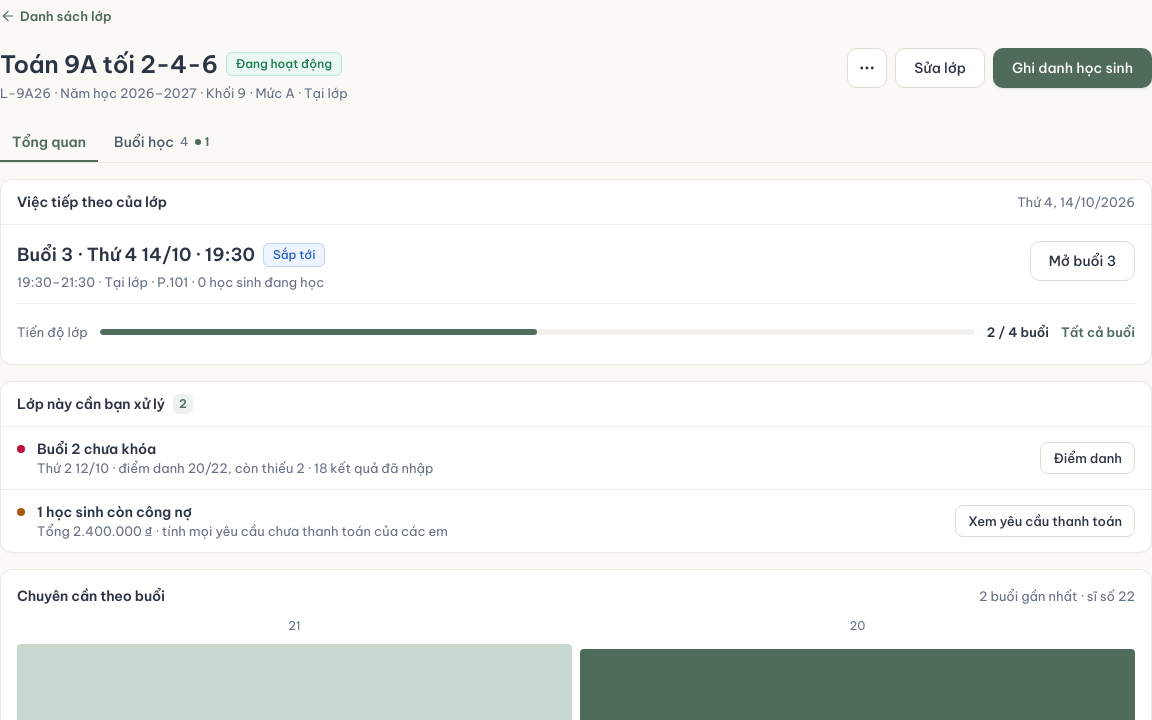
Test case: ClassDetailPage enroll dialog › sends the chosen student with this class and the student's registered mode
Click the button "Ghi danh học sinh": (1072, 68) [993,48,1151,88]
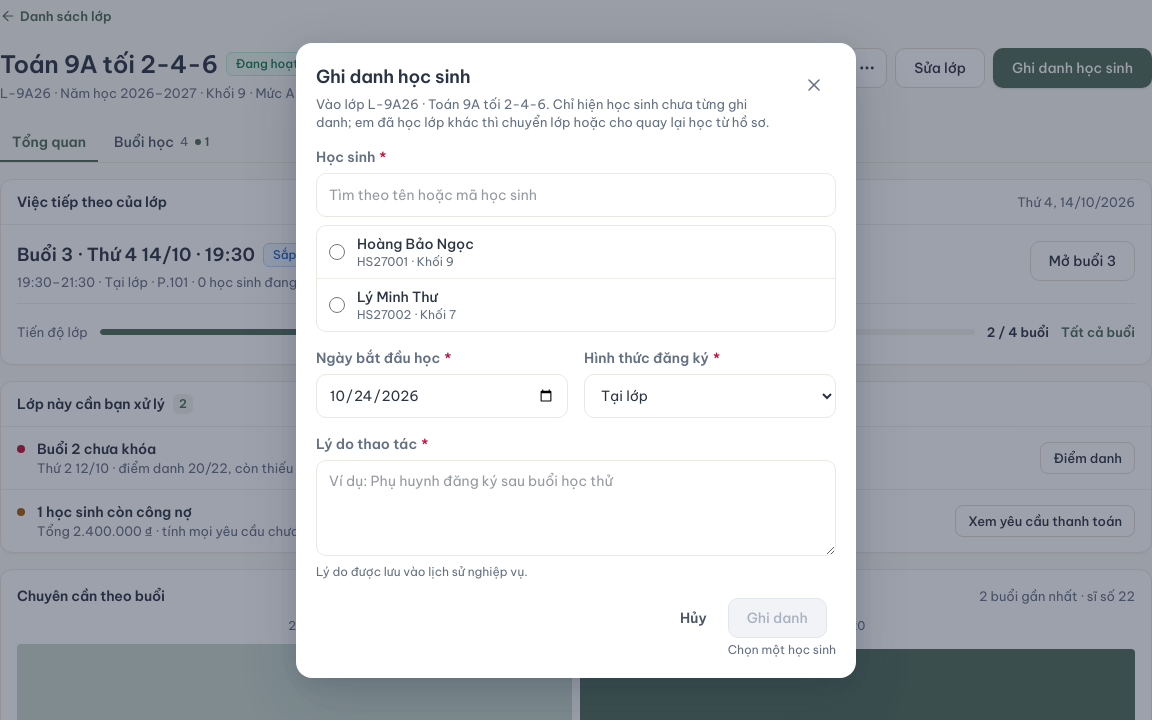
In the search field named "Tìm học sinh theo tên hoặc mã": (576, 194) [316,172,836,216], type "hoang bao"
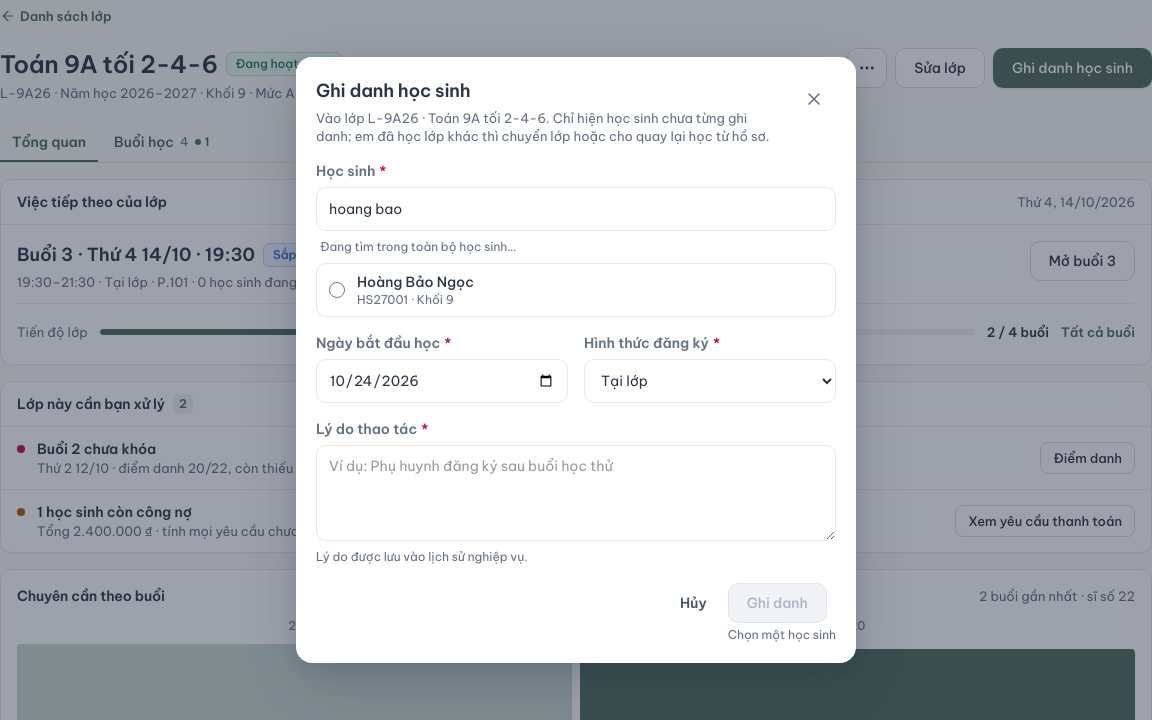
Expected: the text "Lý Minh Thư" is gone
Click the radio button labelled "Hoàng Bảo Ngọc HS27001 · Khối 9": (337, 290) [329,282,345,298]
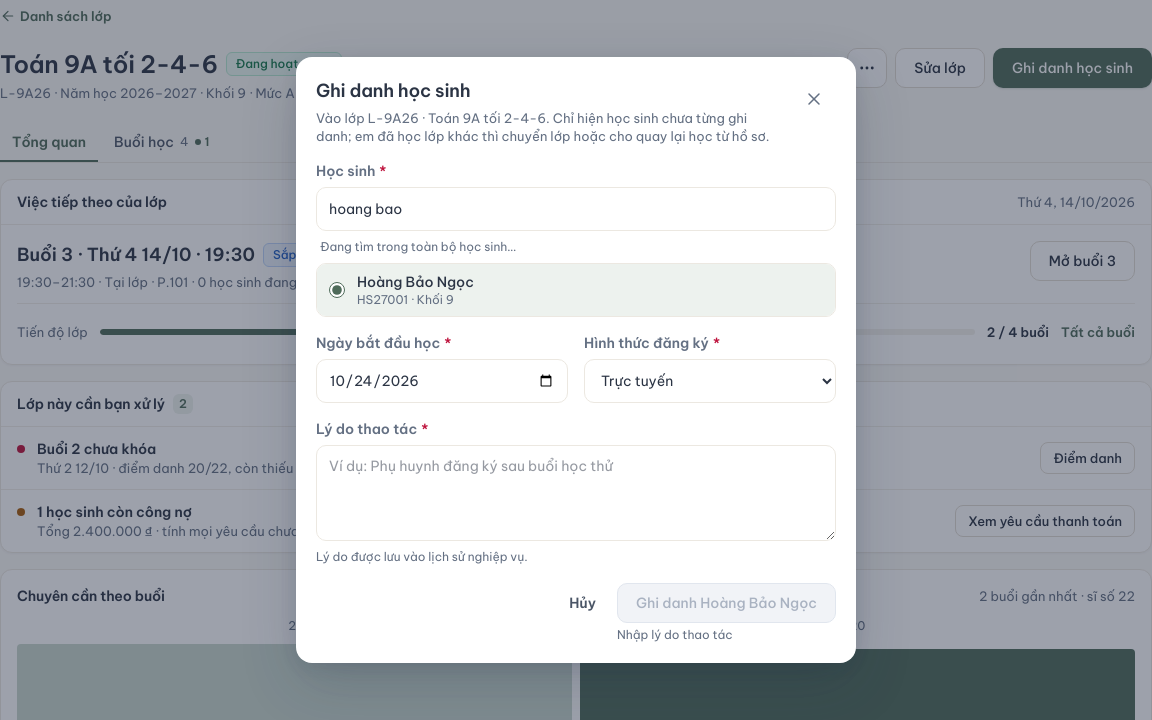
Expected: the dropdown labelled "Hình thức đăng ký*" shows "Trực tuyến", [584,359,836,403]
In the text box labelled "Lý do thao tác*": (576, 493) [316,445,836,541], type "Đăng ký sau học thử"
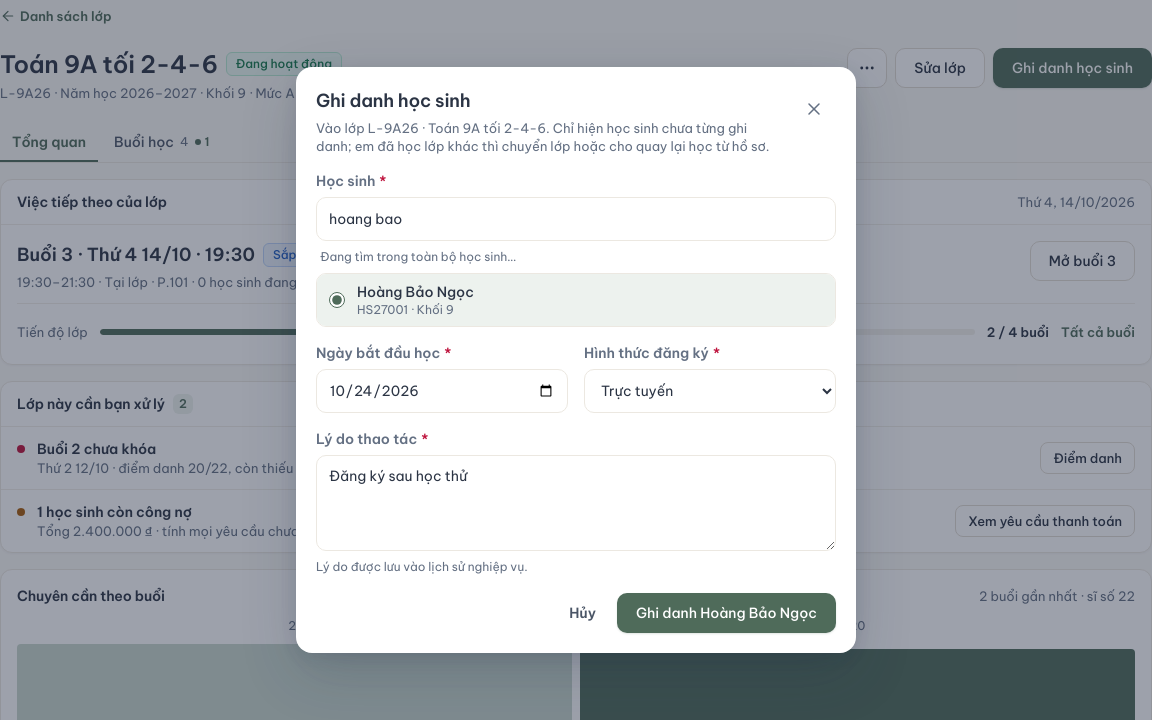
Click the button "Ghi danh Hoàng Bảo Ngọc": (726, 613) [617,593,836,633]
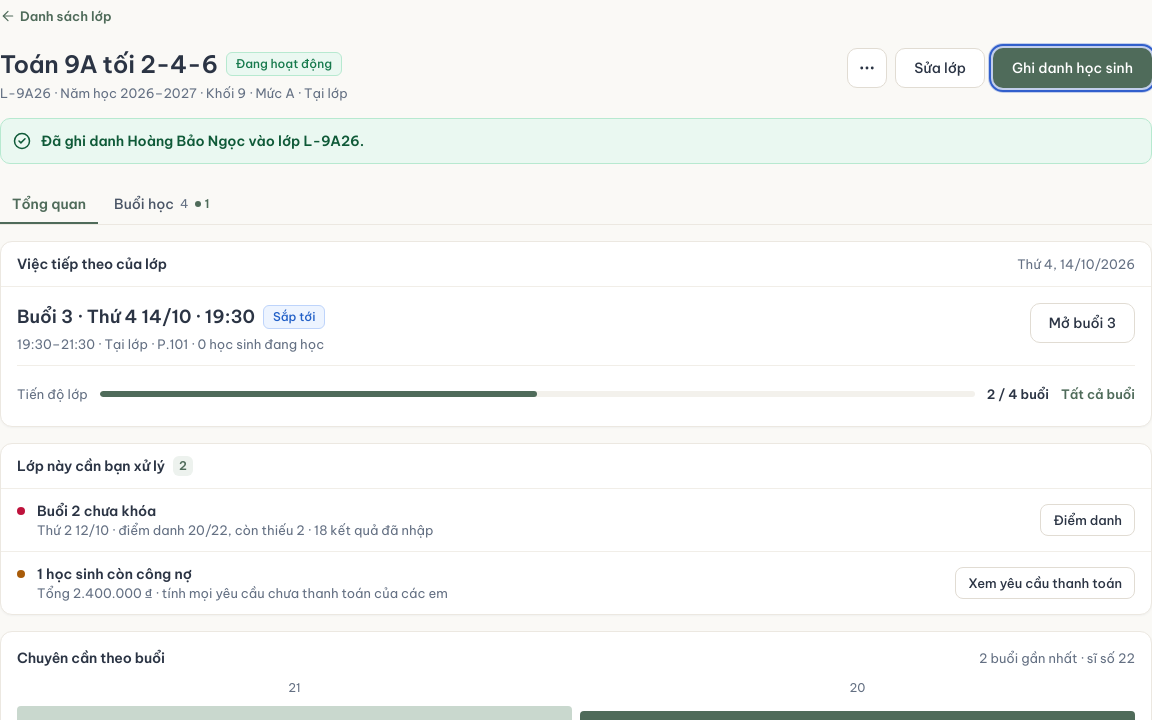
Expected: the text "Đã ghi danh Hoàng Bảo Ngọc vào lớp L-9A26." is shown, [41,132,364,150]
